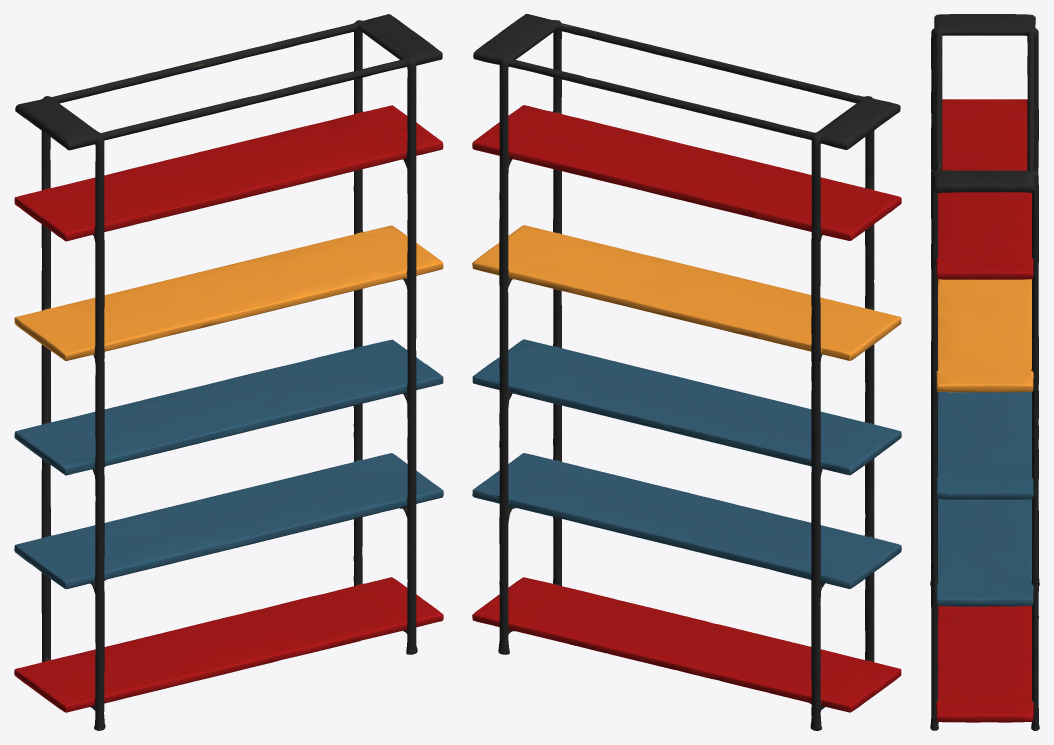
The model's file is bauhaus-bookshelf.glb.
3 views of the same model, side by side, from view 1: azimuth 30°, elevation 25°; view 2: azimuth 150°, elevation 25°; view 3: azimuth 270°, elevation 25° (orthographic). The views are drawn at different scales.
Parts seen in each view (by area): view 1: world; view 2: world; view 3: world.
Part boxes in pixels (x1,y1,x2,y2): world: (14, 14, 443, 730); world: (472, 14, 901, 730); world: (930, 14, 1039, 730).
Bounding box in the file's own units: 1.2 × 1.8 × 0.32.
1 material, 1 textured.
